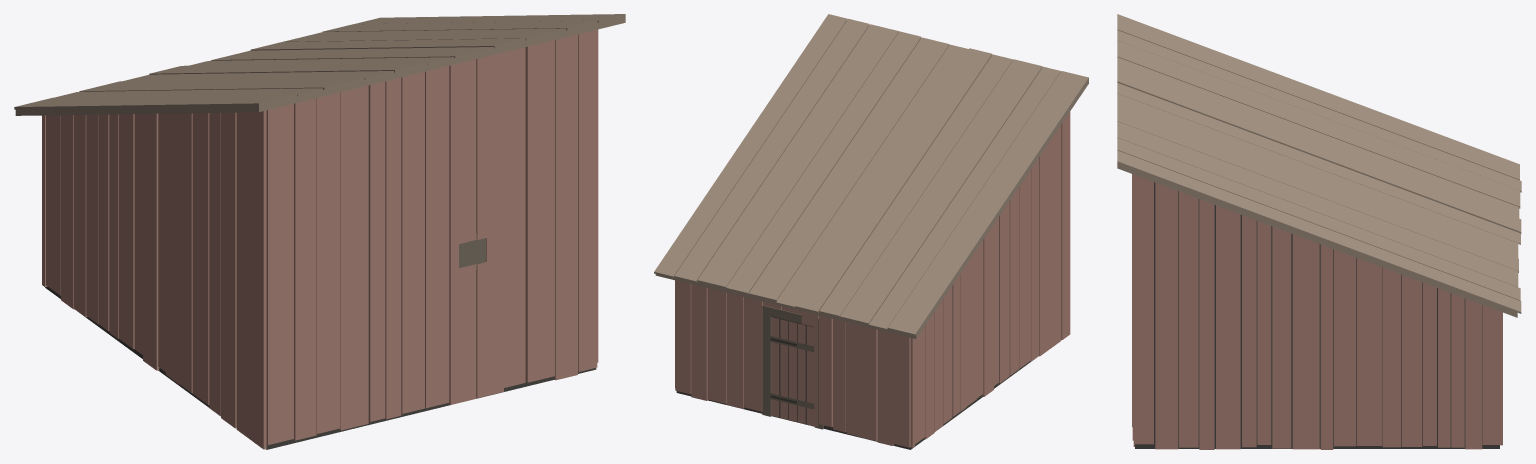
File: recon_1835_blk_randolph_market_d2_05__inferred_1835.glb
3 renders of one model, left to right at view 1: azimuth 30°, elevation 25°; view 2: azimuth 150°, elevation 25°; view 3: azimuth 270°, elevation 25°, orthographic. The views are drawn at different scales.
Visible parts, largest first — view 1: recon_1835_blk_randolph_market_d2_05__inferred_1835; view 2: recon_1835_blk_randolph_market_d2_05__inferred_1835; view 3: recon_1835_blk_randolph_market_d2_05__inferred_1835.
Boxes of the visible parts, bbox=[...] form: recon_1835_blk_randolph_market_d2_05__inferred_1835: bbox=[14, 14, 625, 449]; recon_1835_blk_randolph_market_d2_05__inferred_1835: bbox=[654, 14, 1088, 449]; recon_1835_blk_randolph_market_d2_05__inferred_1835: bbox=[1117, 14, 1521, 449].
Size of the model in its own units: 5.09 by 4.76 by 5.9.
